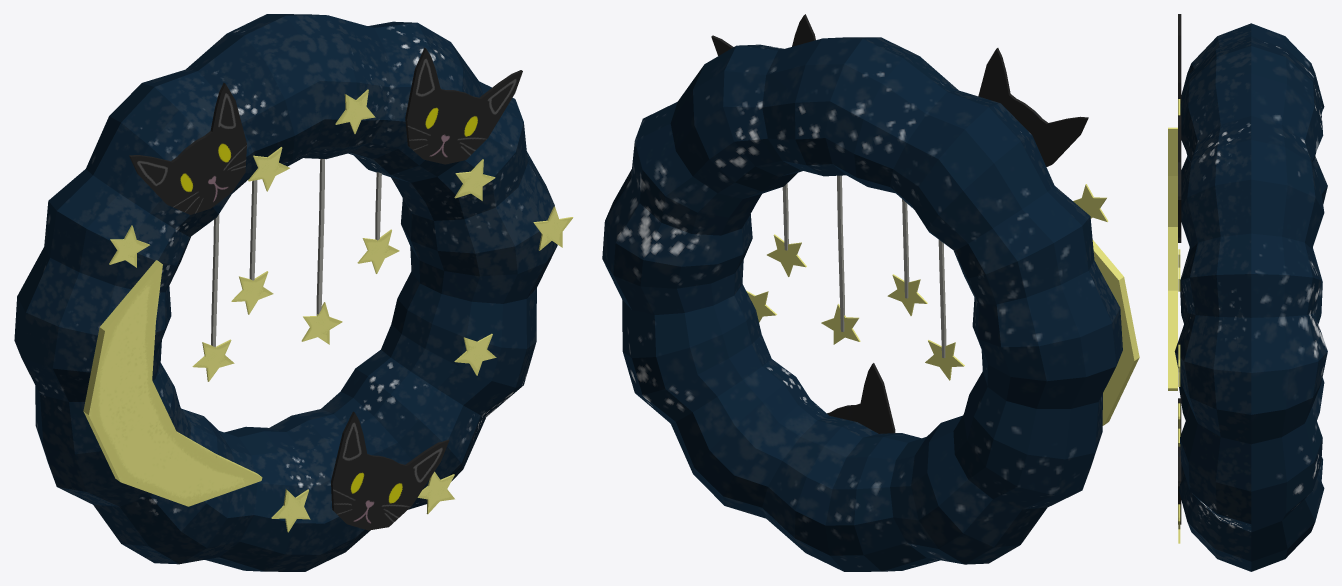
File: Wreath1.fbx
The picture shows the model from 3 angles, left to right: view 1: azimuth 30°, elevation 25°; view 2: azimuth 150°, elevation 25°; view 3: azimuth 270°, elevation 25°; orthographic projection. The views are drawn at different scales.
Parts seen in each view (by area): view 1: Wreath01_Model; view 2: Wreath01_Model; view 3: Wreath01_Model.
Boxes of the visible parts, x1,y1,x2,y2 form: Wreath01_Model: [14, 14, 573, 571]; Wreath01_Model: [602, 14, 1139, 571]; Wreath01_Model: [1168, 14, 1327, 571].
Size of the model in its own units: 42.93 by 12.37 by 42.97.
